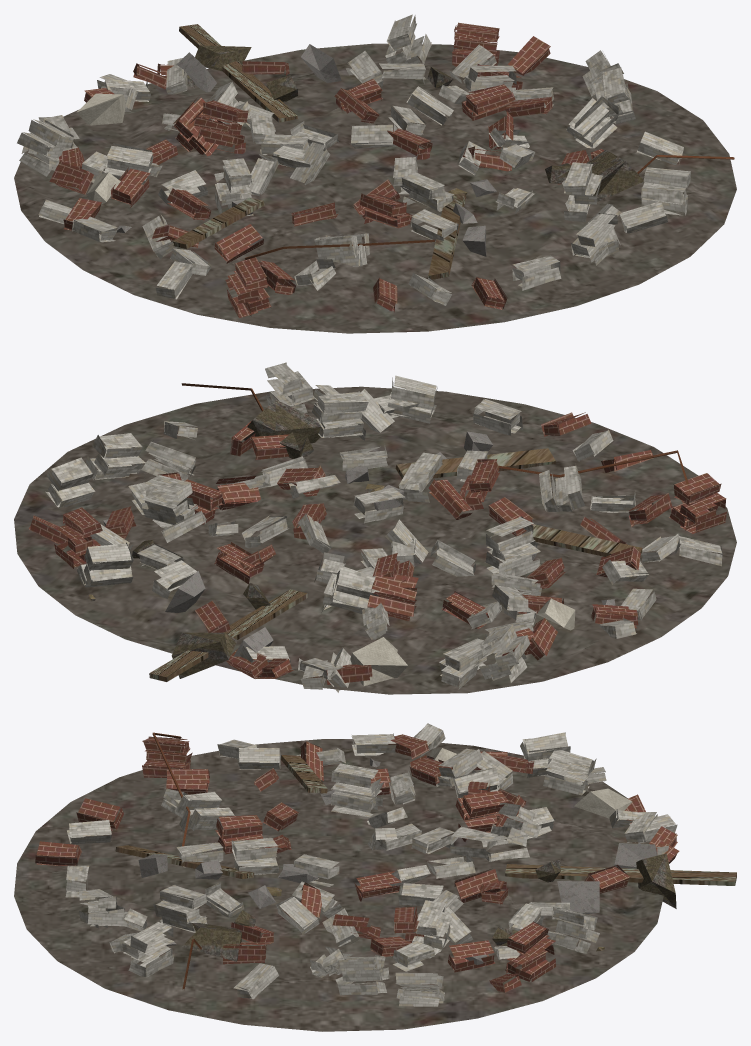
Rendered from rubble_6.glb.
3 renders of one model, top to bottom at view 1: azimuth 30°, elevation 25°; view 2: azimuth 150°, elevation 25°; view 3: azimuth 270°, elevation 25°, orthographic. The views are drawn at different scales.
Parts seen in each view (by area): view 1: rubble_6; view 2: rubble_6; view 3: rubble_6.
Boxes of the visible parts, x1=… form: rubble_6: x1=14, y1=14, x2=736, y2=333; rubble_6: x1=14, y1=362, x2=736, y2=694; rubble_6: x1=14, y1=723, x2=736, y2=1031.
Bounding box in the file's own units: 4.18 × 0.5006 × 4.36.
Materials: 1 (1 with a texture image).
